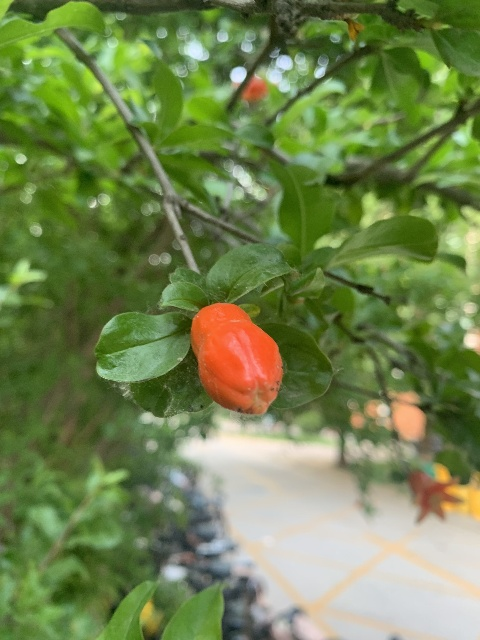bud: (190, 302, 283, 415)
flower: (408, 469, 464, 523)
